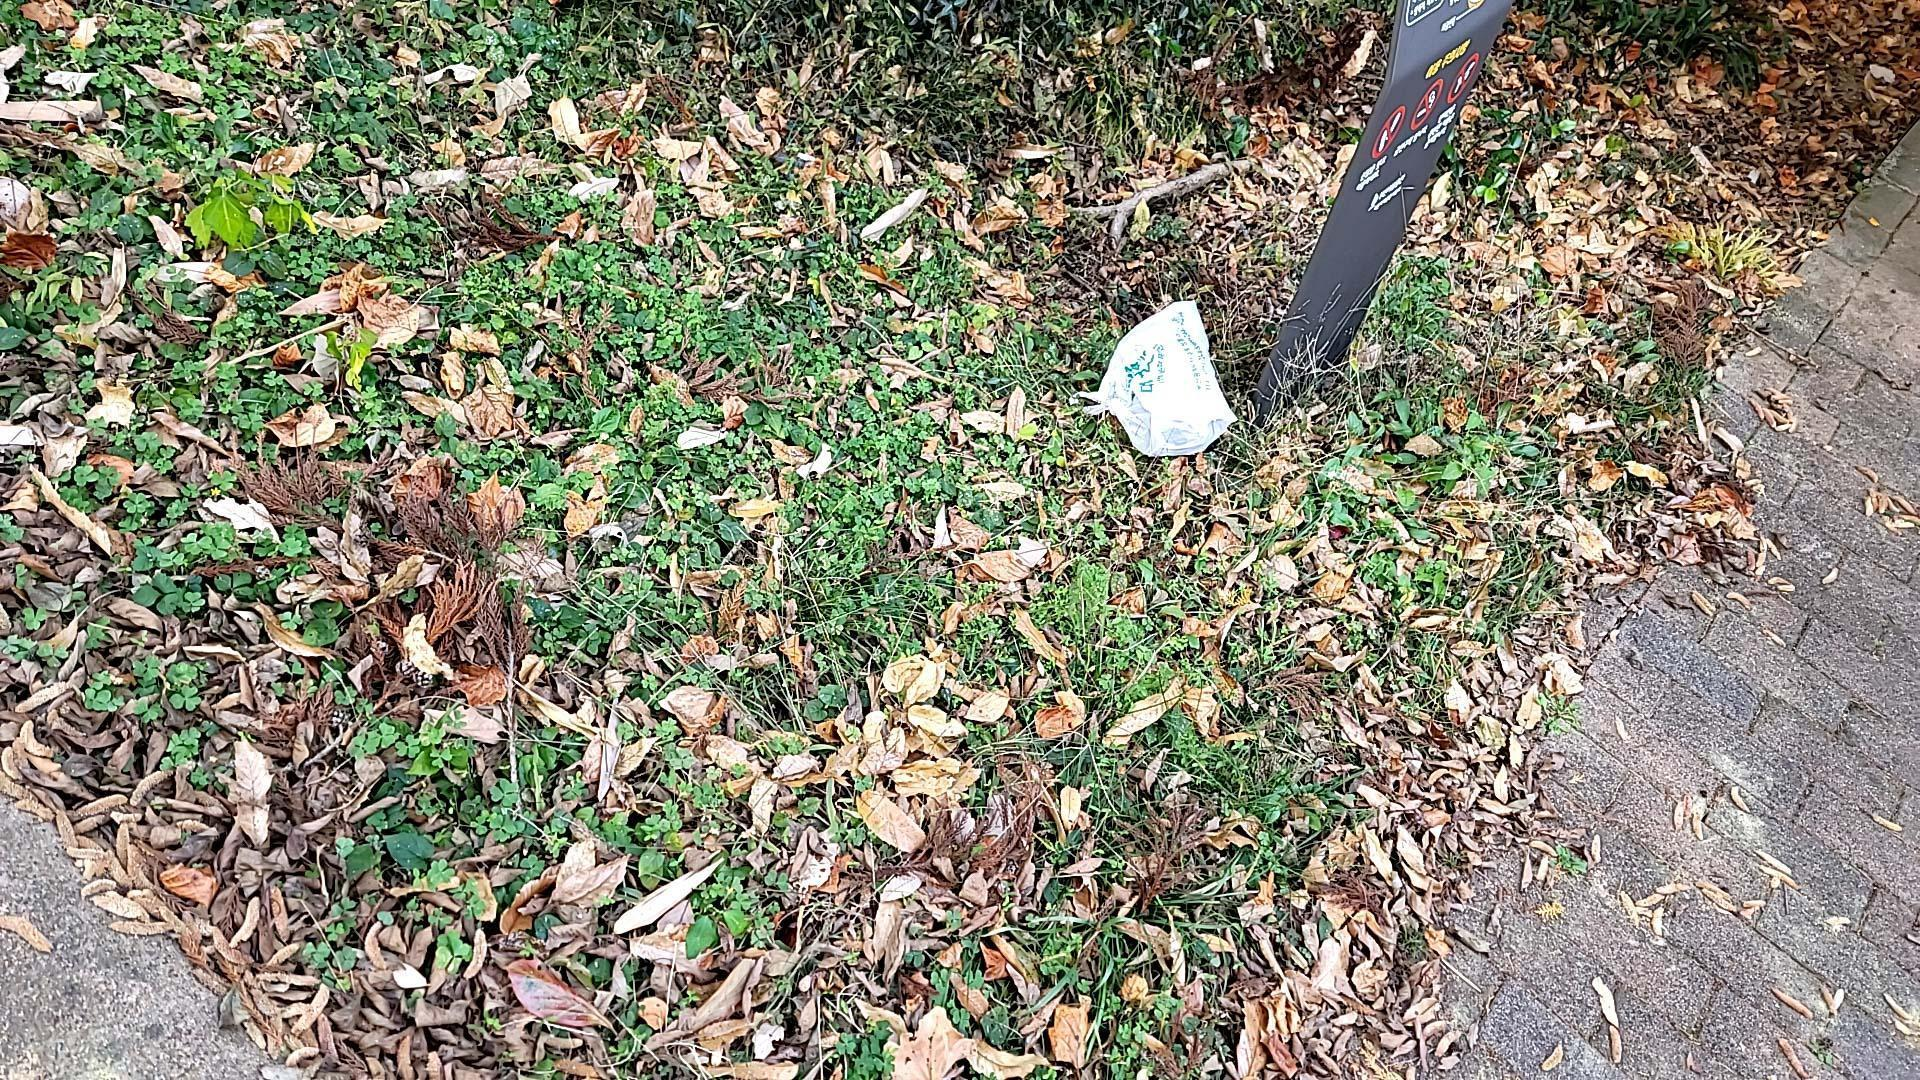white_bag: (1065, 291, 1242, 465)
